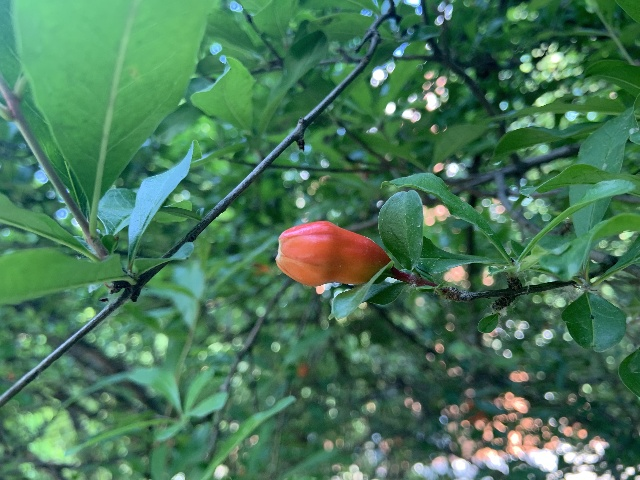bud: (276, 220, 391, 288)
